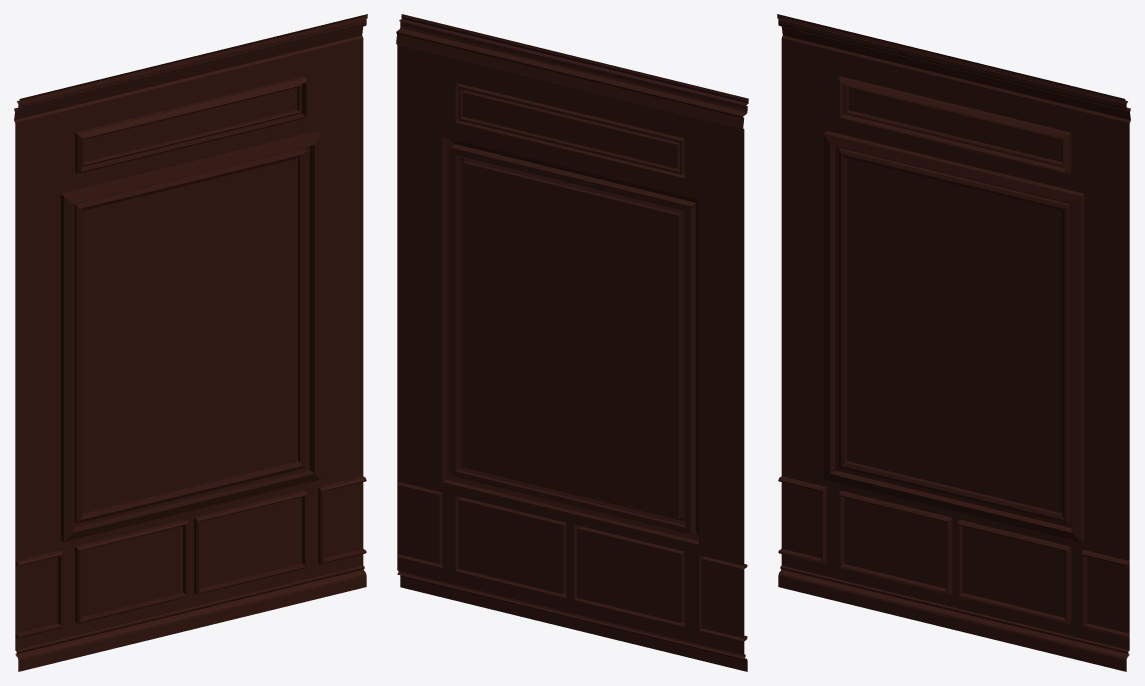
Rendered from wall_big.fbx.
3 renders of one model, left to right at view 1: azimuth 30°, elevation 25°; view 2: azimuth 150°, elevation 25°; view 3: azimuth 330°, elevation 25°, orthographic.
Visible parts, largest first — view 1: Plane.008; view 2: Plane.008; view 3: Plane.008.
Boxes of the visible parts, x1,y1,x2,y2 form: Plane.008: (14, 14, 367, 671); Plane.008: (396, 14, 748, 671); Plane.008: (777, 14, 1130, 671).
Size of the model in its own units: 200 by 315 by 5.9.
